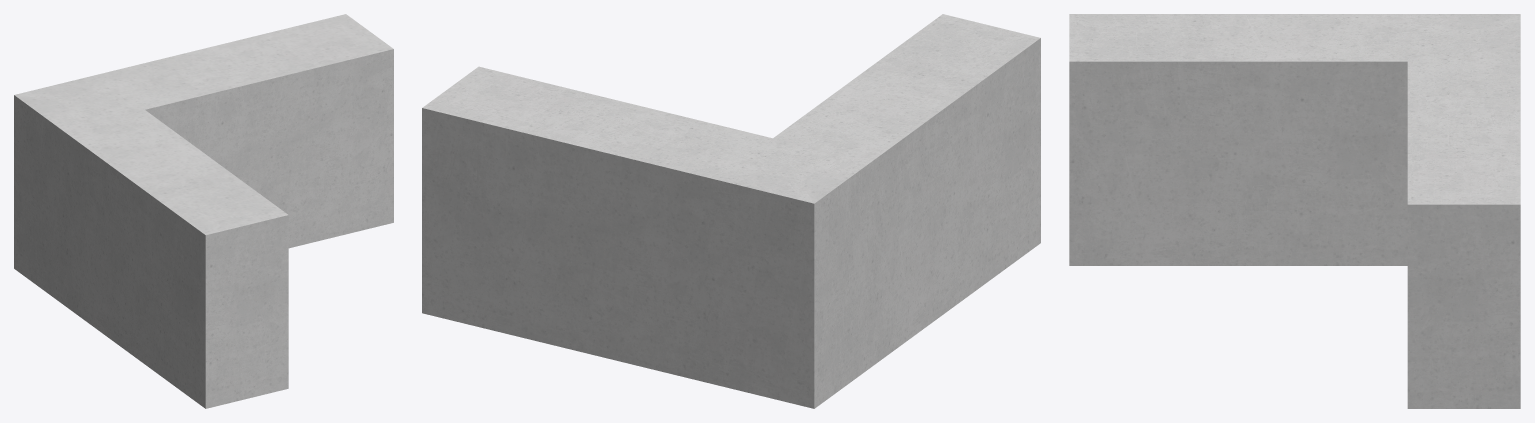
The model's file is MB_Parapet_B_Angle_01.fbx.
The picture shows the model from 3 angles, left to right: view 1: azimuth 30°, elevation 25°; view 2: azimuth 150°, elevation 25°; view 3: azimuth 270°, elevation 25°; orthographic projection. The views are drawn at different scales.
Parts seen in each view (by area): view 1: MB_Parapet_Angle_B_01; view 2: MB_Parapet_Angle_B_01; view 3: MB_Parapet_Angle_B_01.
Boxes of the visible parts, <box> form: MB_Parapet_Angle_B_01: <box>14,14,393,408</box>; MB_Parapet_Angle_B_01: <box>422,14,1040,408</box>; MB_Parapet_Angle_B_01: <box>1069,14,1520,408</box>.
Size of the model in its own units: 200 by 100 by 200.
